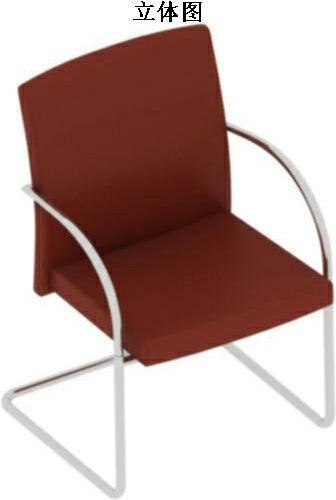obstacle: (5, 25, 332, 496)
